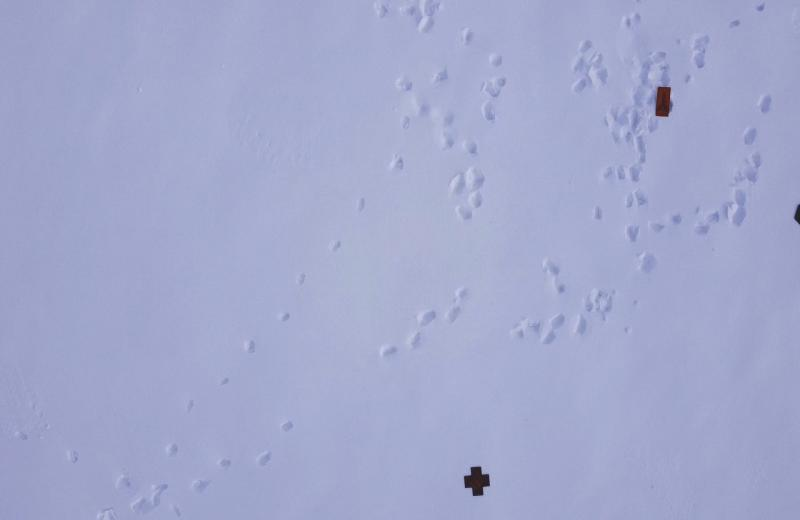Cross: (460, 463, 490, 499)
Rectangle: (646, 81, 677, 118)
